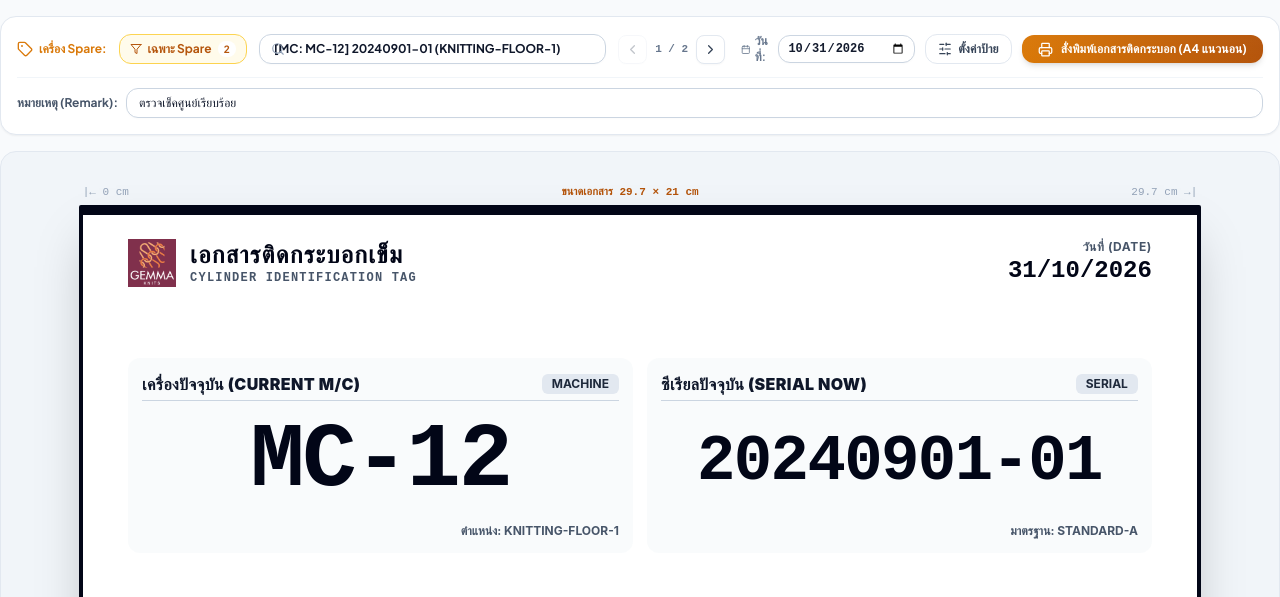
Scenario: CylinderTagView Component (Customizable Tack Spare Tag) › allows opening settings panel and configuring dimensions and section heights
The width and height of the screenshot is (1280, 597).
// Open settings panel
Click the button "ตั้งค่าป้าย" at (968, 49), box [925,34,1012,64]
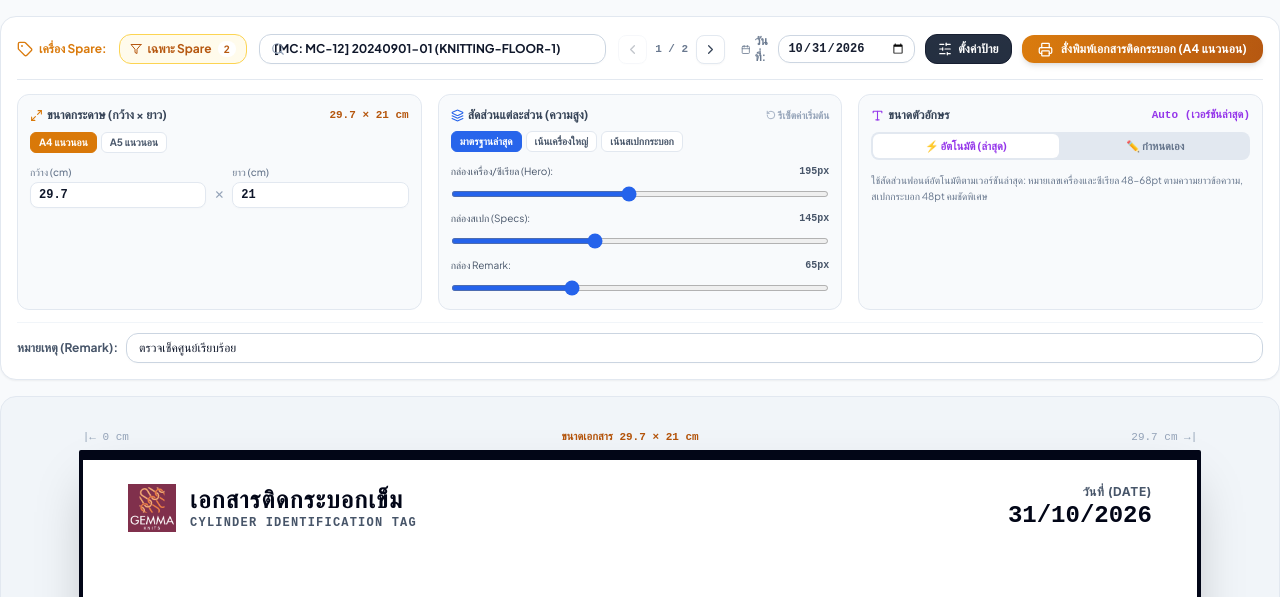
Expected: the text "ขนาดกระดาษ (กว้าง × ยาว)" is shown, [30,107,167,123]
// Test paper size preset (A5 Landscape: 21 x 14.8 cm)
Click the button "A5 แนวนอน" at (134, 142), box [101,132,167,152]
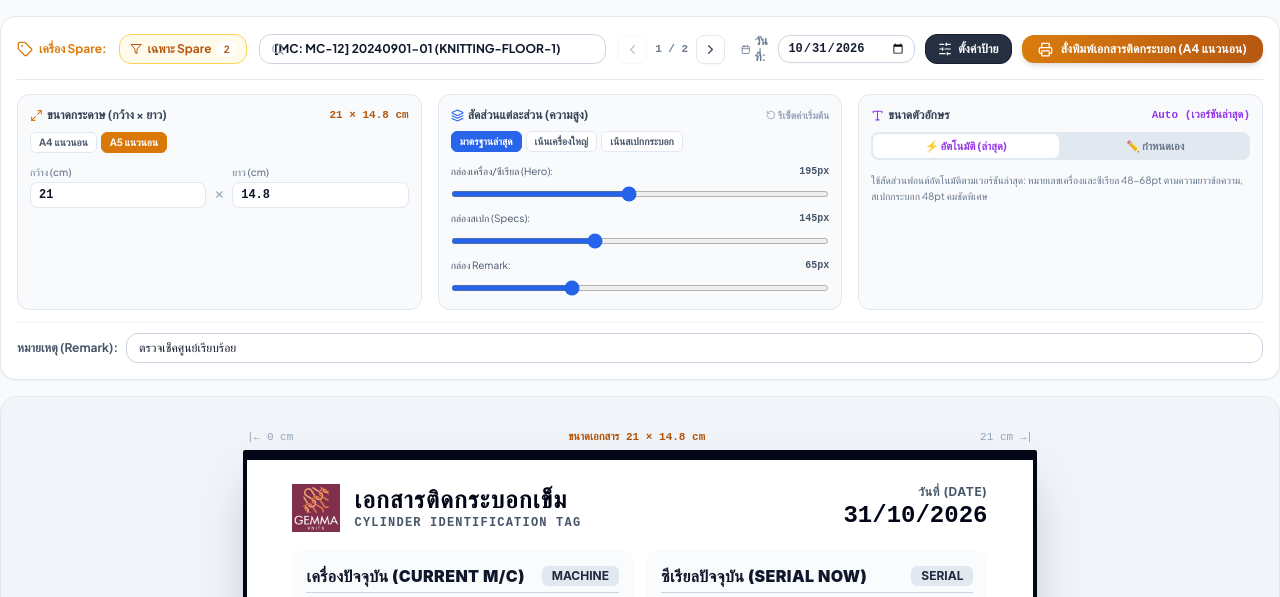
Expected: the number field showing "21" below "กว้าง (cm)" is shown, [30,182,206,208]
Expected: the number field showing "14.8" below "ยาว (cm)" is shown, [232,182,409,208]
// Test proportion preset (เน้นเครื่องใหญ่: hero 235px)
Click the button "เน้นเครื่องใหญ่" at (561, 142), box [526,131,597,152]
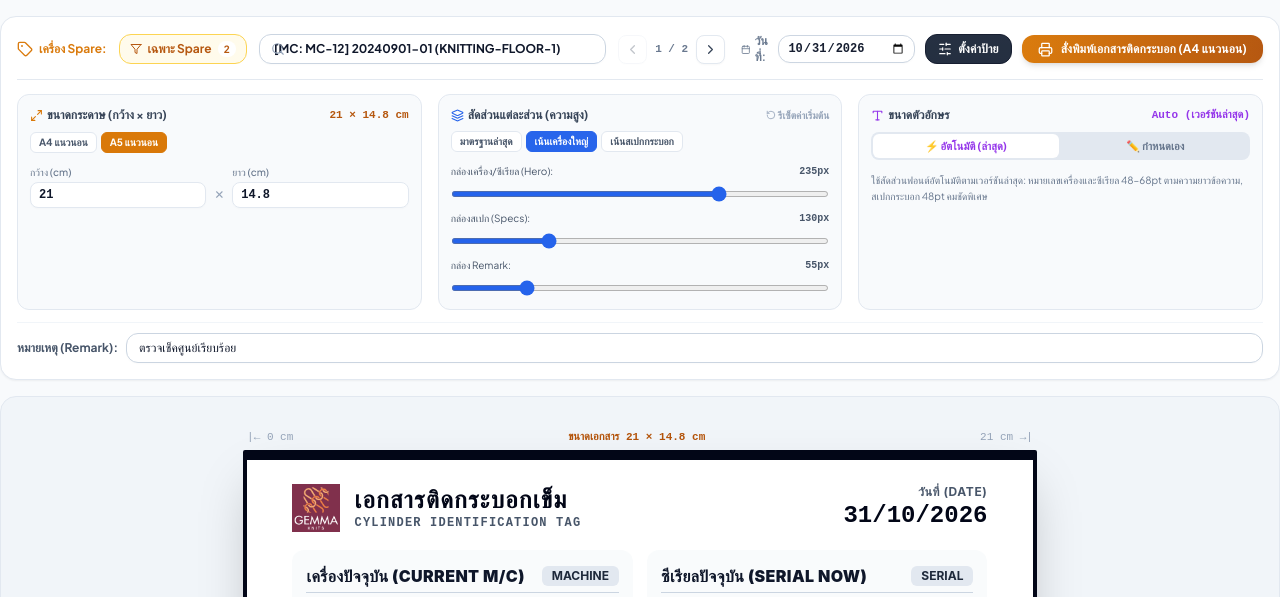
Expected: the text "235px" is shown, [799,164,829,179]
// Test font mode toggle to custom
Click the button "✏️ กำหนดเอง" at (1155, 146), box [1063,134,1248,158]
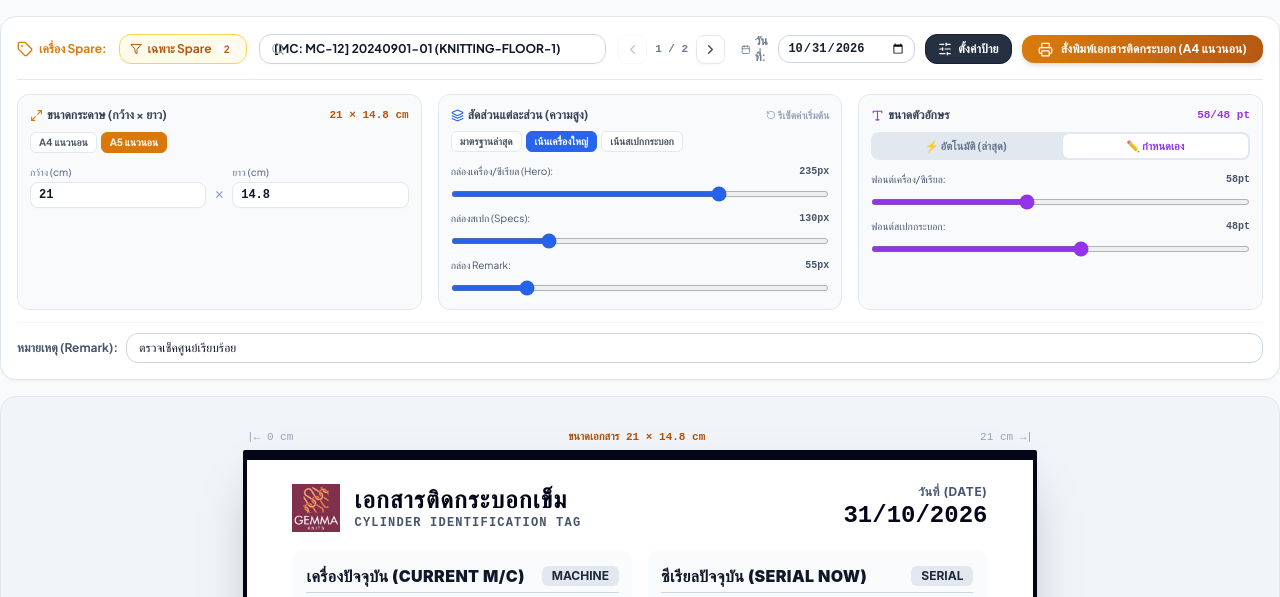
Expected: the text "ฟอนต์เครื่อง/ซีเรียล:" is shown, [871,172,946,187]
// Test reset settings to default
Click the button "รีเซ็ตค่าเริ่มต้น" at (798, 115), box [766,108,829,122]
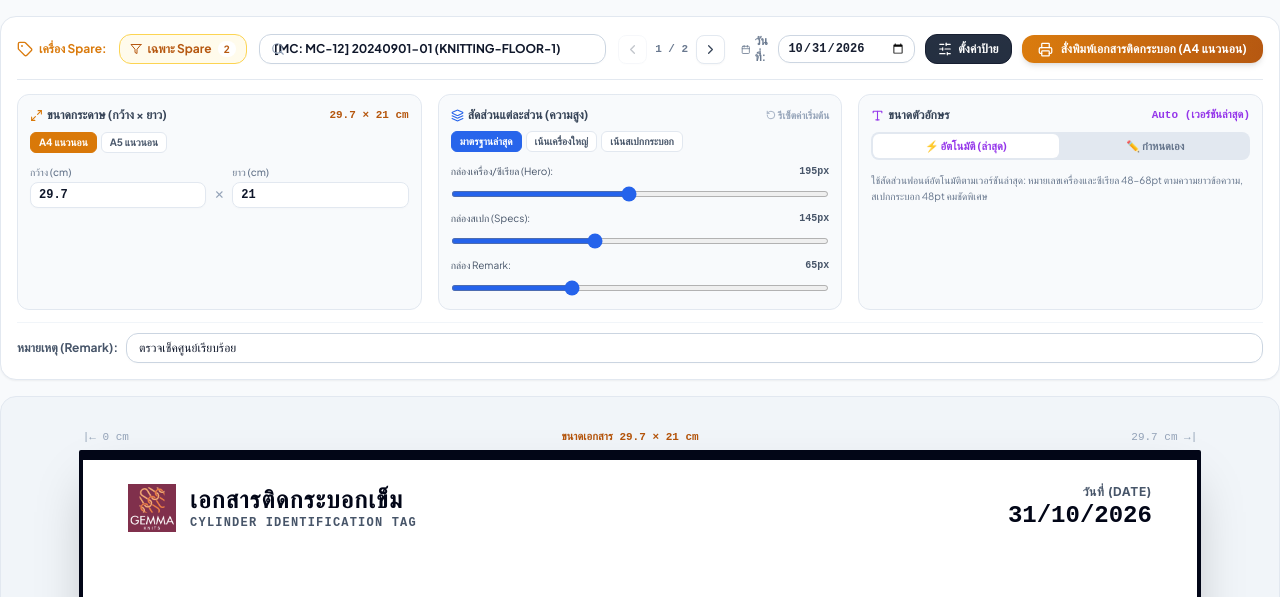
Expected: the number field showing "29.7" below "กว้าง (cm)" is shown, [30,182,206,208]
Expected: the number field showing "21" below "ยาว (cm)" is shown, [232,182,409,208]
